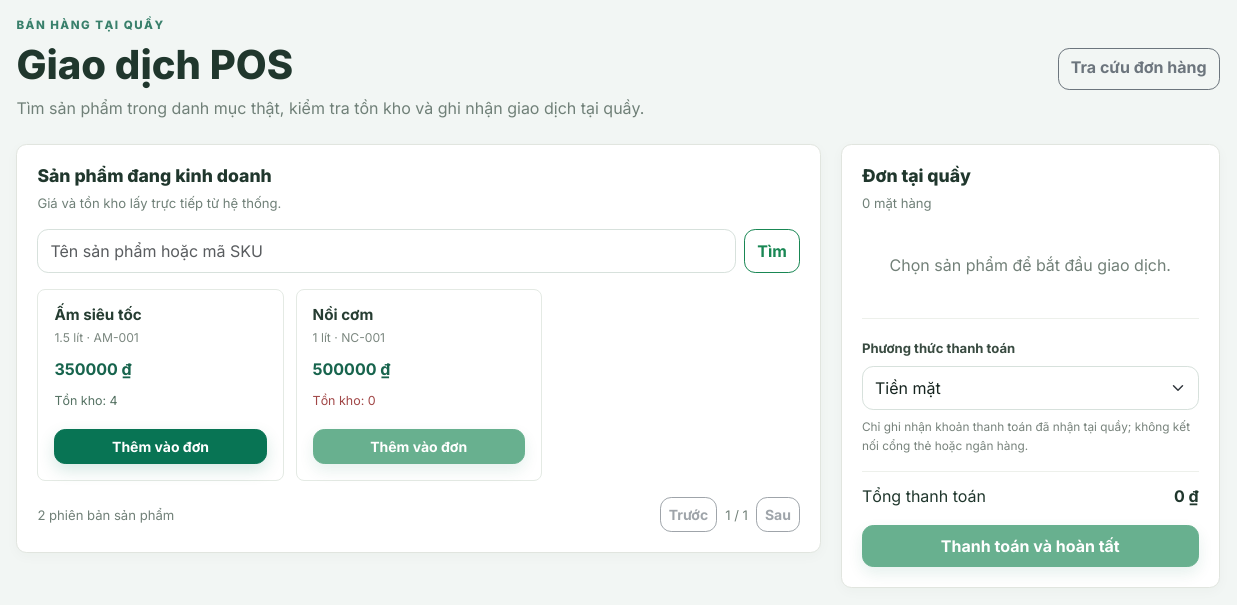
Test: PosPage › loads real catalog items and creates a counter order using the selected items
expect the heading "Ấm siêu tốc" is shown: met, box [54,306,142,324]
expect the element "Thêm vào đơn" shows "Tồn kho: 4": met, box [37,289,284,481]
Click the button "Thêm vào đơn" below "350000 ₫": [160, 447] box [54,429,267,464]
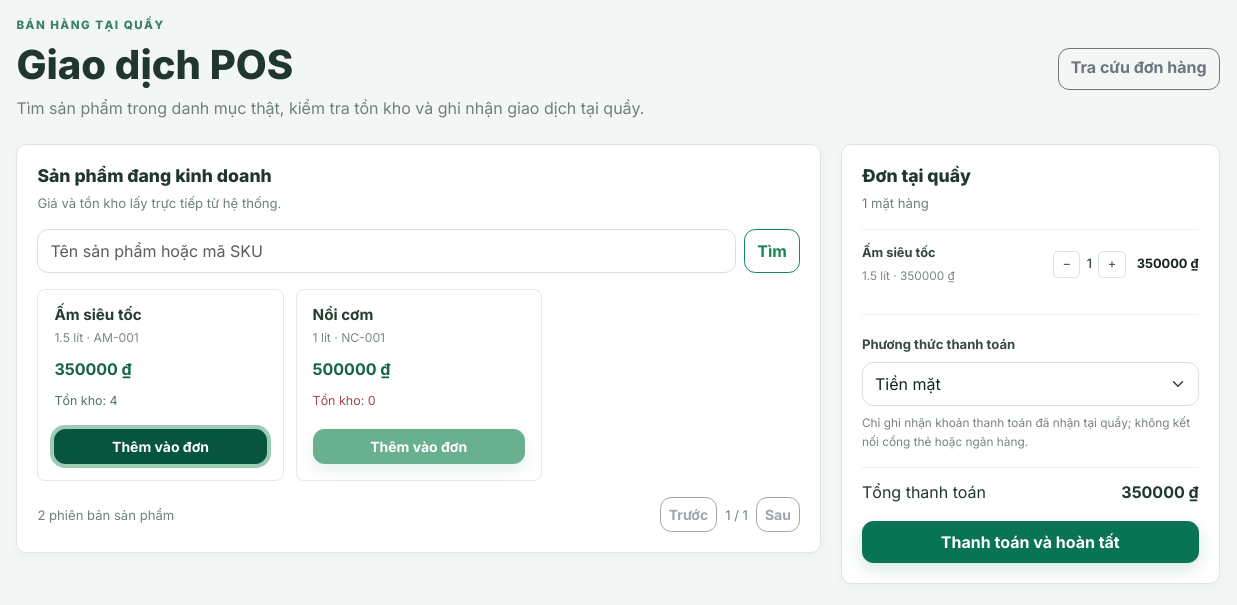
expect the text "350000 ₫" below "AM-001" is shown: met, box [54,359,132,379]
Click the button "Thanh toán và hoàn tất": [1030, 542] box [862,521,1199,563]
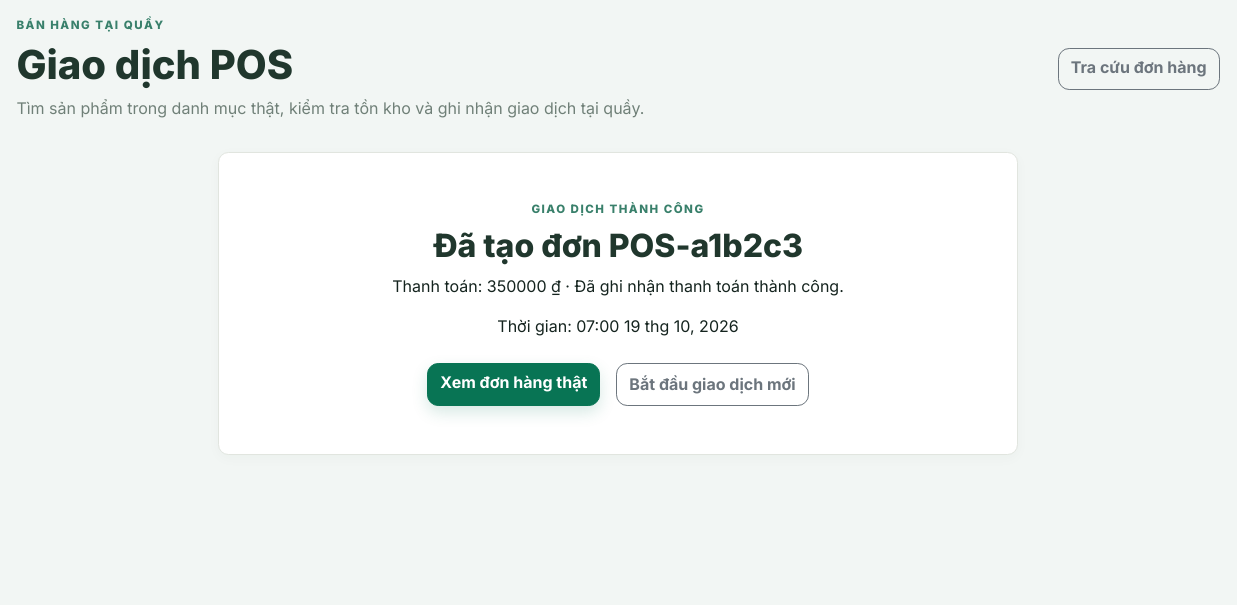
expect the heading "Đã tạo đơn POS-a1b2c3" is shown: met, box [433,226,803,265]
